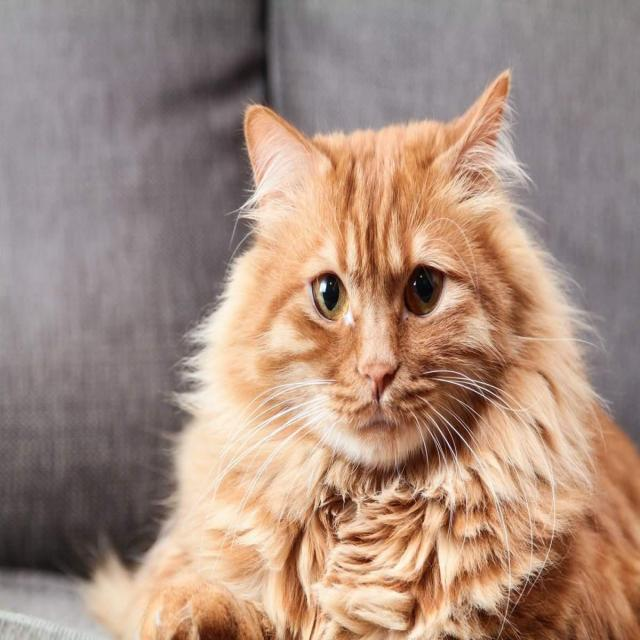Cat: (233, 61, 530, 473)
